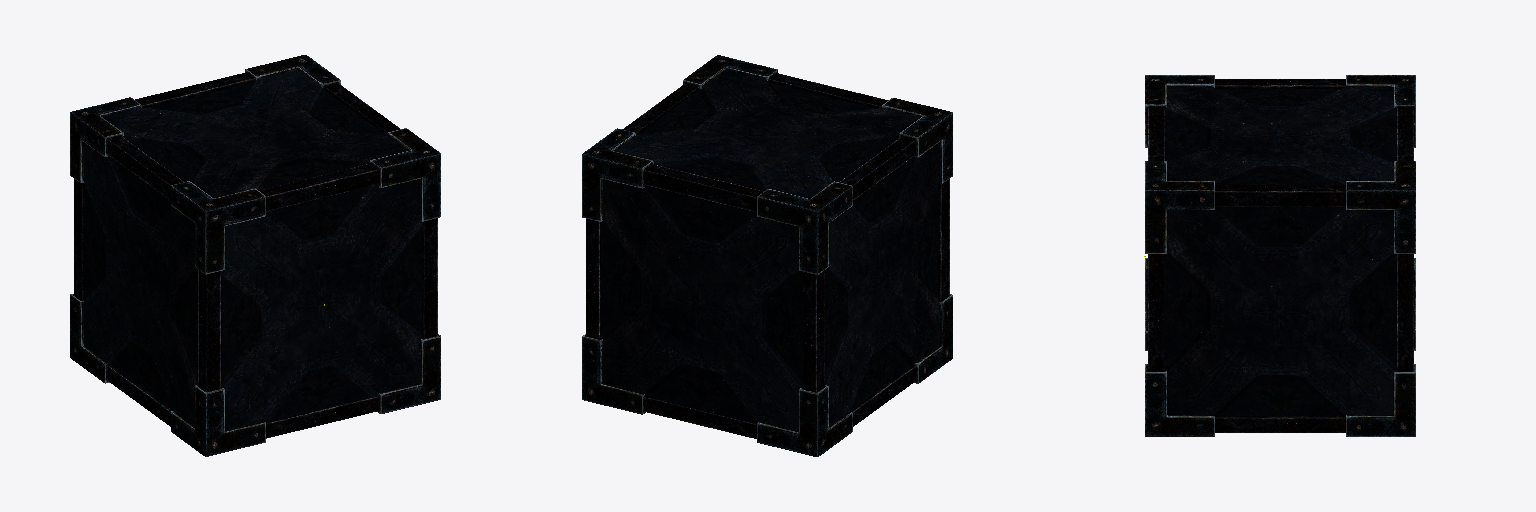
3 renders of one model, left to right at view 1: azimuth 30°, elevation 25°; view 2: azimuth 150°, elevation 25°; view 3: azimuth 270°, elevation 25°, orthographic.
Parts seen in each view (by area): view 1: Root__BoxIron_A; view 2: Root__BoxIron_A; view 3: Root__BoxIron_A.
Part boxes in pixels (left/top/right/bottom): Root__BoxIron_A: left=70, top=55, right=440, bottom=456; Root__BoxIron_A: left=582, top=55, right=952, bottom=456; Root__BoxIron_A: left=1145, top=75, right=1415, bottom=436.
Size of the model in its own units: 4.01 by 4 by 4.
Materials: 2 (1 with a texture image).